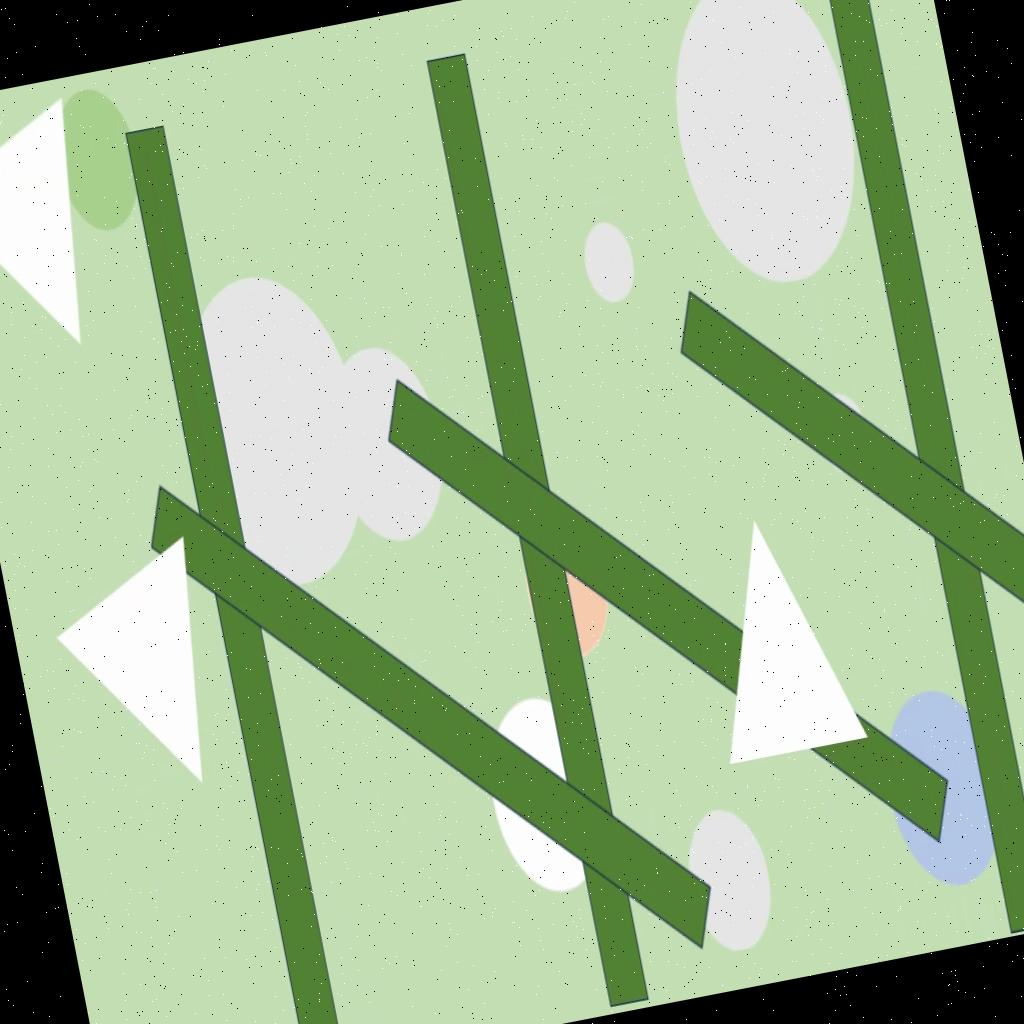Circle: (168, 259, 386, 600), (652, 0, 881, 297), (312, 338, 456, 554), (872, 680, 1014, 896), (477, 690, 618, 904), (44, 84, 150, 240), (678, 803, 784, 958), (524, 516, 622, 666), (576, 214, 640, 306)
